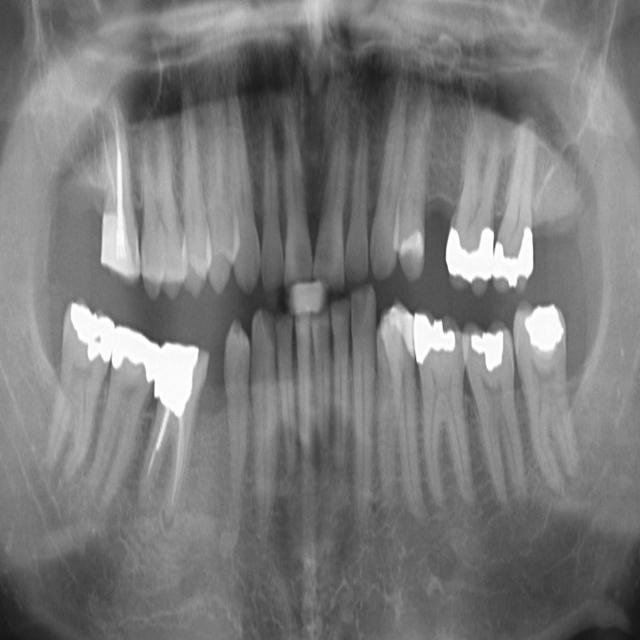dolgu: (519, 298, 574, 379), (455, 316, 508, 381), (413, 310, 464, 362), (397, 227, 426, 258)
kanal-tedavisi: (147, 397, 194, 521), (90, 82, 132, 220)
kaplama: (146, 330, 205, 420), (60, 291, 116, 374), (440, 210, 497, 286), (92, 202, 142, 278), (107, 316, 155, 392), (489, 233, 546, 290)
